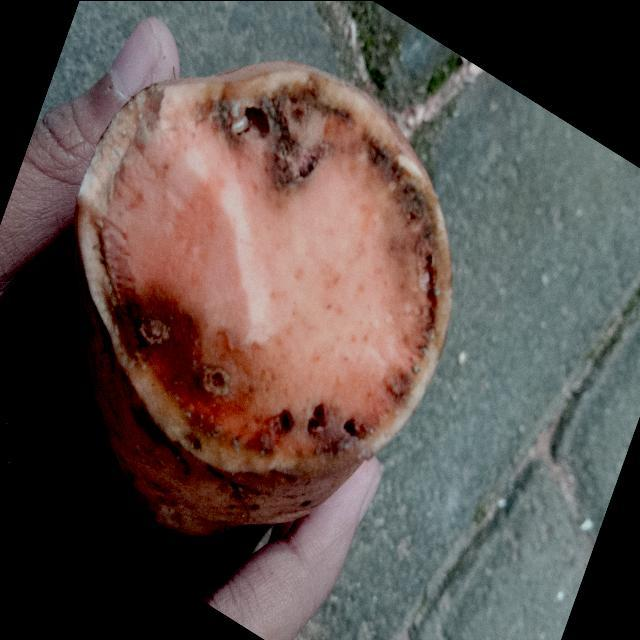Sick Sweet Potato_Tuber Rot: (76, 62, 451, 472)
